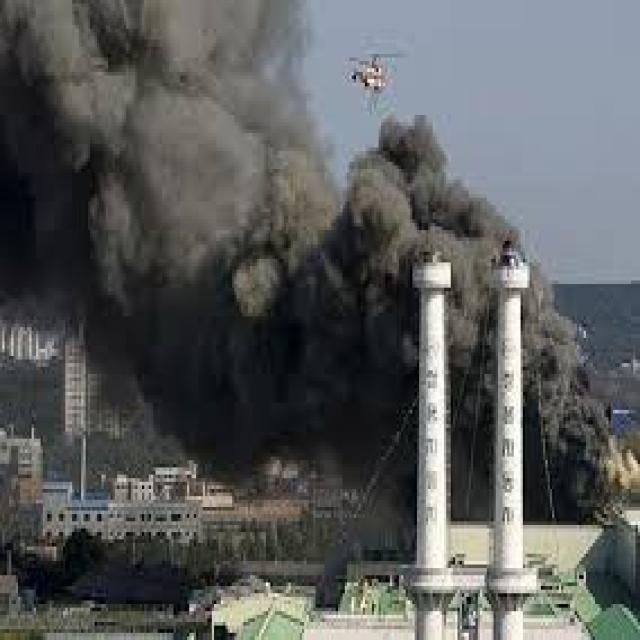Smoke: (0, 0, 605, 497)
